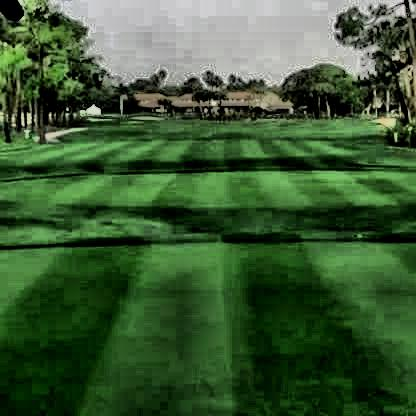golfball: (207, 98, 215, 105)
